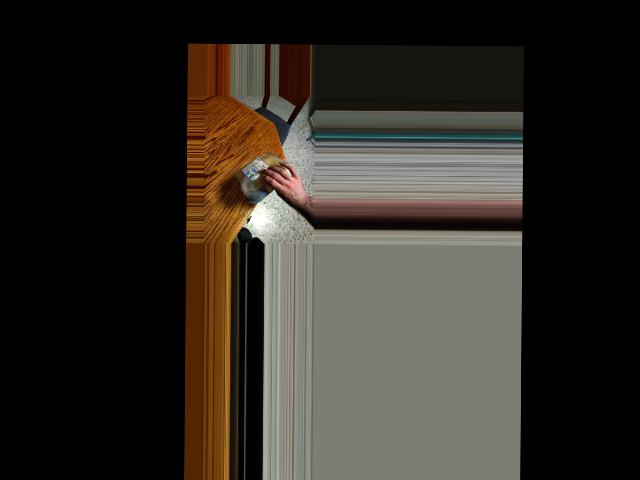cheese: (233, 151, 296, 203)
